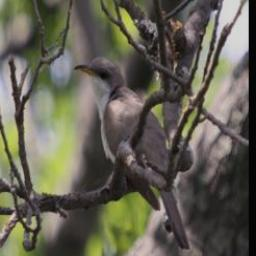Cuckoo: (72, 51, 189, 256)
